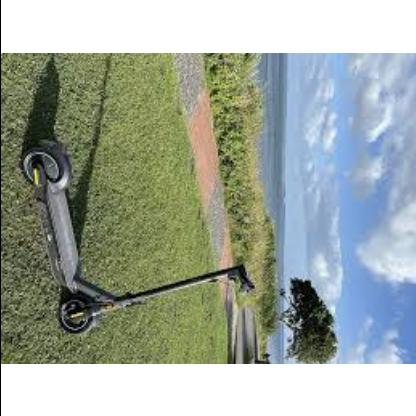bike: (20, 55, 260, 335)
